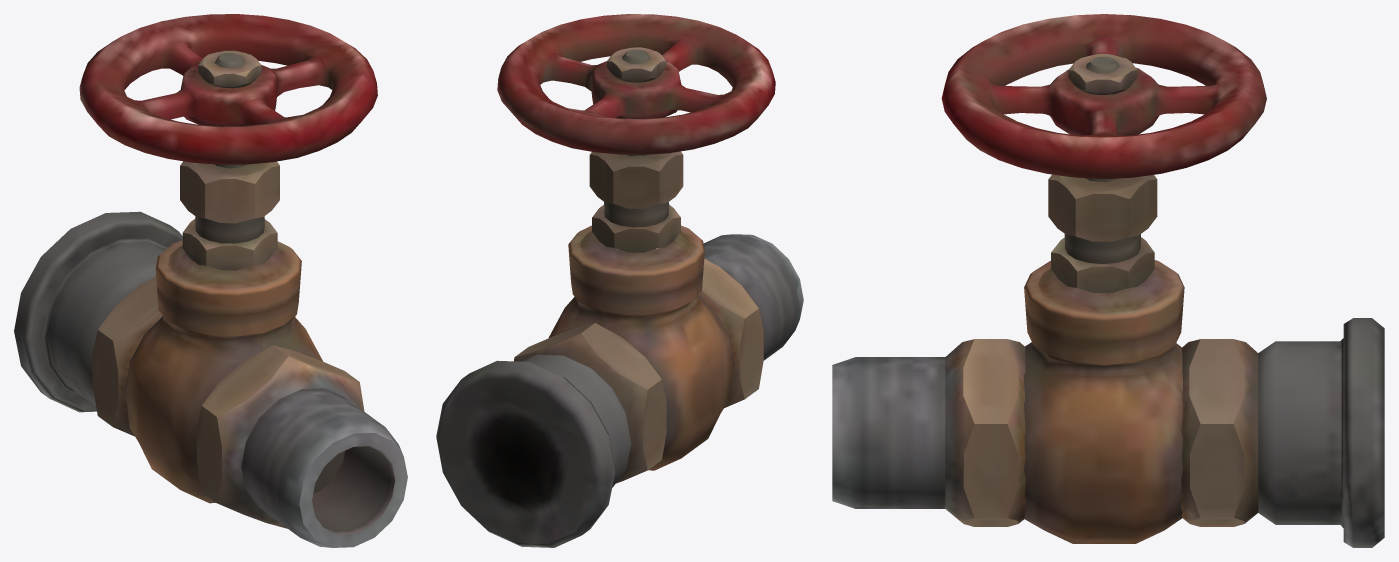
File: coaling_tower_fuel_tank_valve.glb
The picture shows the model from 3 angles, left to right: view 1: azimuth 30°, elevation 25°; view 2: azimuth 150°, elevation 25°; view 3: azimuth 270°, elevation 25°; orthographic projection. The views are drawn at different scales.
Parts seen in each view (by area): view 1: coaling_tower_fuel_tank_valve_LOD0; view 2: coaling_tower_fuel_tank_valve_LOD0; view 3: coaling_tower_fuel_tank_valve_LOD0.
Part boxes in pixels (x1,y1,x2,y2): coaling_tower_fuel_tank_valve_LOD0: [14, 14, 407, 547]; coaling_tower_fuel_tank_valve_LOD0: [436, 14, 803, 547]; coaling_tower_fuel_tank_valve_LOD0: [832, 14, 1384, 547].
Bounding box in the file's own units: 0.2026 × 0.327 × 0.3438.
Materials: 1 (1 with a texture image).
